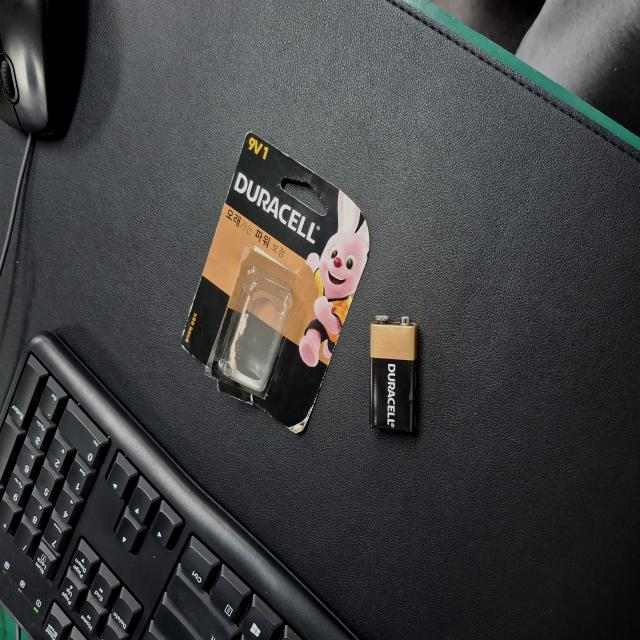9V: (236, 298, 324, 360)
